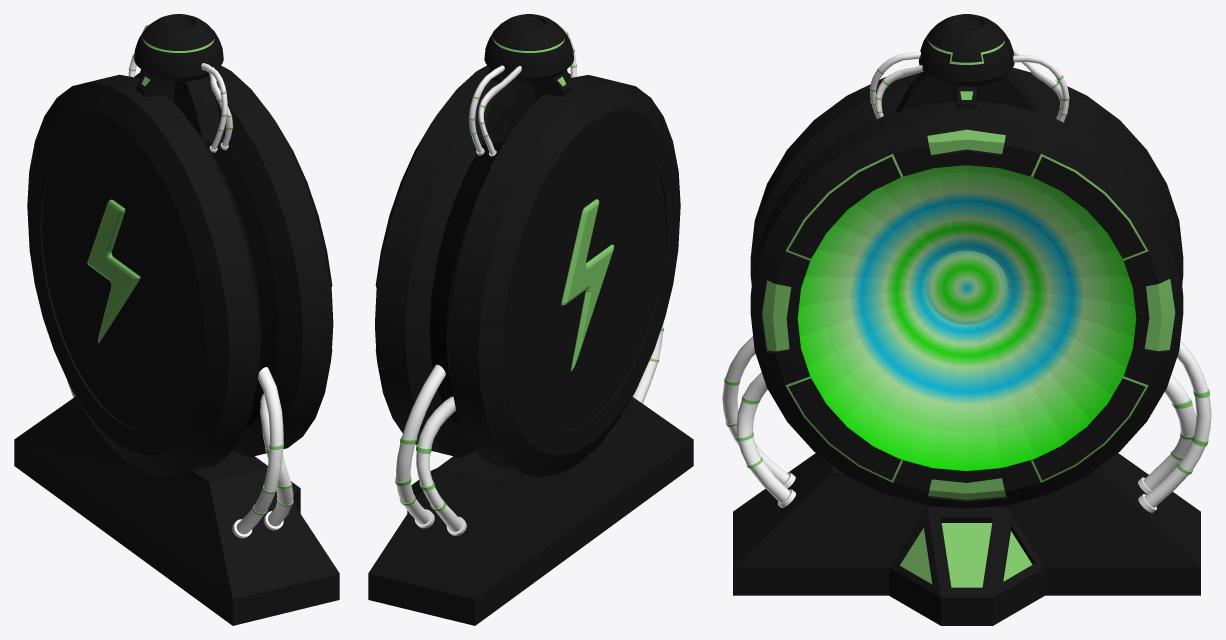
File: Portal.glb
3 renders of one model, left to right at view 1: azimuth 30°, elevation 25°; view 2: azimuth 150°, elevation 25°; view 3: azimuth 270°, elevation 25°, orthographic. The views are drawn at different scales.
Parts seen in each view (by area): view 1: Circle.061, Cube.126, Sphere.001, Circle.062, Cylinder.026, Vert.006, Plane.017, Cylinder.025; view 2: Circle.061, Cube.126, Cylinder.024, Sphere.001, Circle.062, Vert.006, Plane.017, Cylinder.037, Cylinder.026, Cylinder.038; view 3: Circle.065, Circle.061, Cube.126, Circle.063, Sphere.001, Cylinder.024, Cube.127, Cylinder.026, Plane.017, Circle.064, Cylinder.037, Cylinder.025.
Part boxes in pixels (x1,y1,x2,y2): Circle.061: (27,65,333,477); Cube.126: (14,396,339,625); Sphere.001: (134,14,223,81); Circle.062: (205,142,278,429); Cylinder.026: (232,367,293,538); Vert.006: (87,199,140,343); Plane.017: (136,69,223,144); Cylinder.025: (201,63,232,152); Circle.061: (375,65,680,477); Cube.126: (368,397,693,625); Cylinder.024: (396,364,466,535); Sphere.001: (484,14,573,81); Circle.062: (429,142,502,429); Vert.006: (561,199,614,371); Plane.017: (482,69,571,145); Cylinder.037: (469,65,521,156); Cylinder.026: (632,324,663,403); Cylinder.038: (395,436,445,511); Circle.065: (797,165,1136,470); Circle.061: (750,67,1183,508); Cube.126: (733,453,1200,625); Circle.063: (762,129,1175,499); Sphere.001: (918,14,1014,86); Cylinder.024: (1138,340,1211,512); Cube.127: (900,523,1032,587); Cylinder.026: (722,336,796,507); Plane.017: (895,70,1039,112); Circle.064: (785,154,1148,482); Cylinder.037: (1011,45,1069,122); Cylinder.025: (870,51,923,118).
Bounding box in the file's own units: 0.6346 × 1.78 × 1.44.
2 materials, 2 textured.
